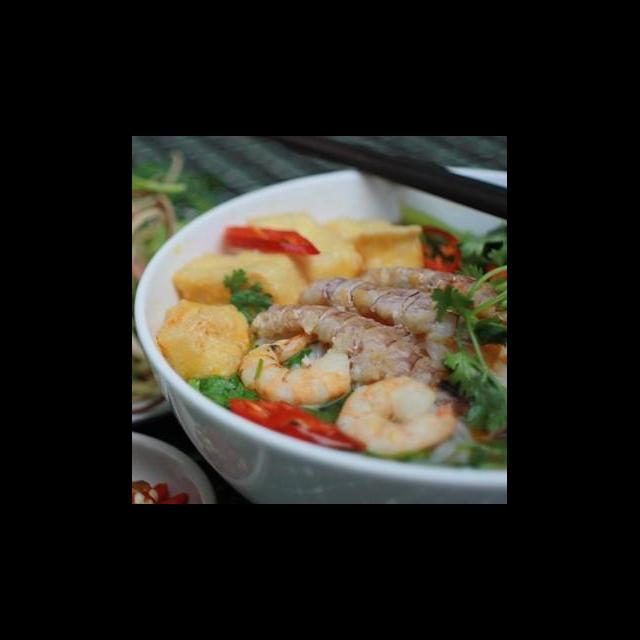bun hai san: (148, 166, 506, 504)
dau hu: (354, 239, 434, 369), (326, 170, 396, 312), (256, 156, 346, 260), (365, 318, 430, 424)
tom: (174, 331, 267, 461), (226, 237, 310, 355)
tom tit: (246, 247, 342, 446), (271, 296, 366, 460), (310, 349, 378, 499)
